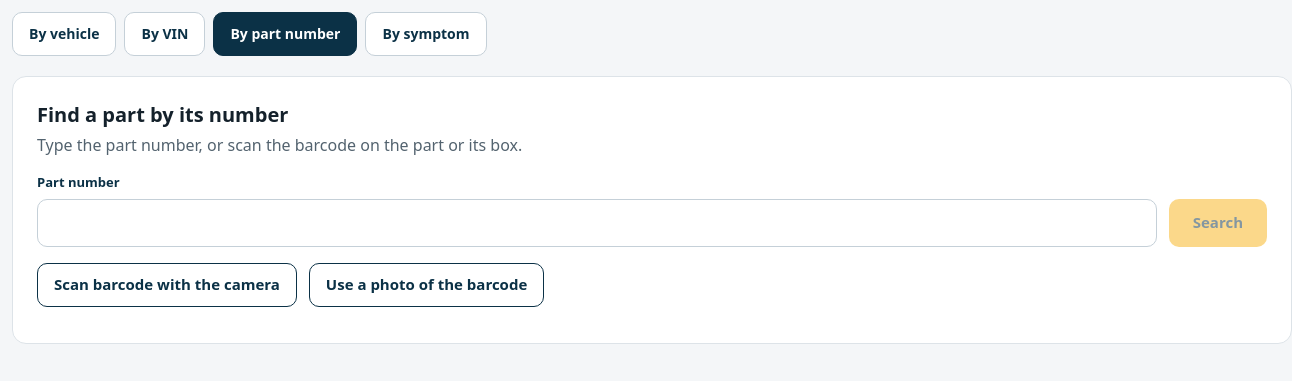
Test: find a part by its number › a camera the buyer refused (or that does not exist) is a plain message
This screenshot has width=1292, height=381.
Click the button "Scan barcode with the camera".
click(167, 284)  # box x1=37 y1=262 x2=297 y2=306
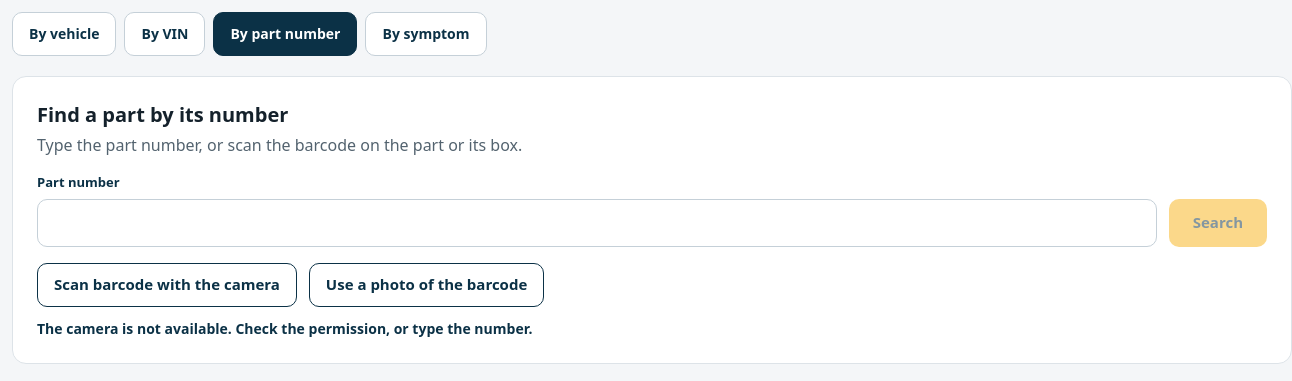
Check: the text "The camera is not available. Check the permission, or type the number." is shown, box x1=37 y1=318 x2=533 y2=338
